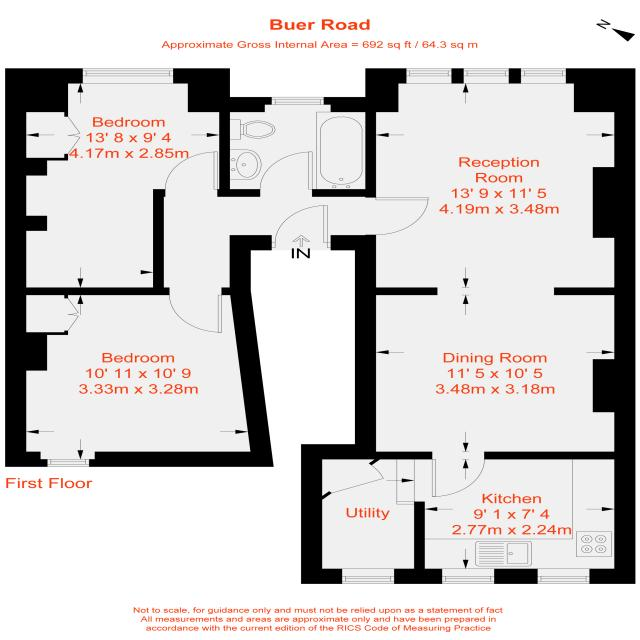DOOR: (272, 204, 332, 251), (166, 286, 224, 334), (429, 451, 487, 499), (257, 151, 315, 198), (364, 196, 430, 236), (163, 150, 219, 197)
ROOM: (301, 67, 636, 501), (4, 68, 230, 296), (5, 287, 274, 467), (411, 451, 636, 585)
WINDOW: (82, 68, 174, 84), (339, 567, 398, 585), (440, 568, 497, 585), (519, 66, 569, 85), (536, 568, 591, 585), (462, 67, 510, 85), (404, 67, 453, 84), (269, 96, 326, 106), (46, 458, 91, 468)
